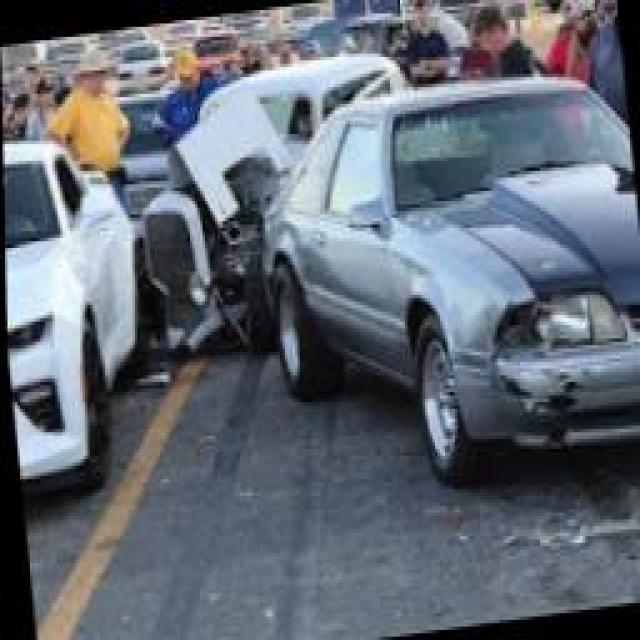Bumper: (495, 337, 621, 446)
Light: (488, 293, 628, 355)
